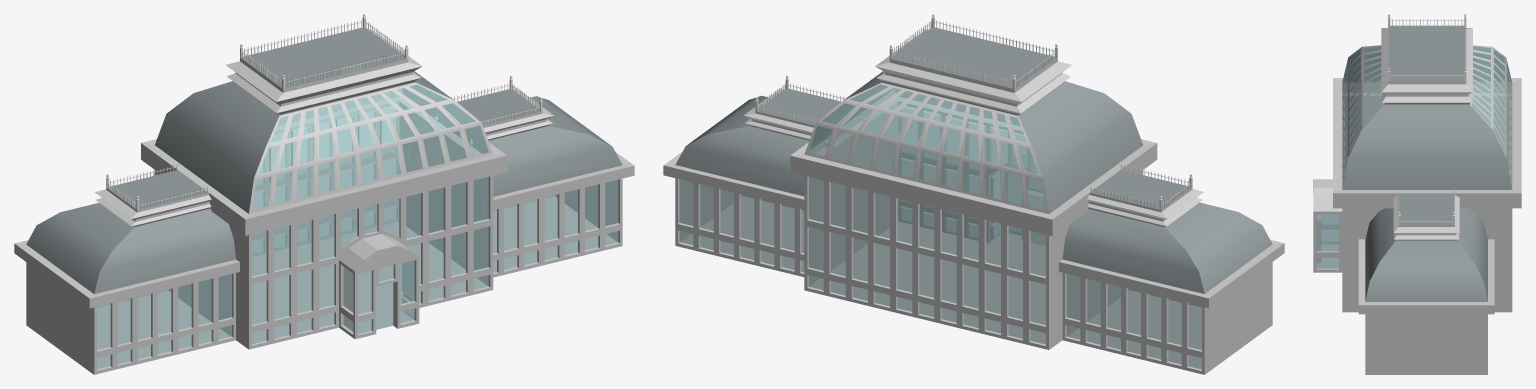
The model's file is Greenhouse.fbx.
3 views of the same model, side by side, from view 1: azimuth 30°, elevation 25°; view 2: azimuth 150°, elevation 25°; view 3: azimuth 270°, elevation 25° (orthographic). The views are drawn at different scales.
Visible parts, largest first — view 1: Greenhouse; view 2: Greenhouse; view 3: Greenhouse.
Part boxes in pixels (x1,y1,x2,y2): Greenhouse: (14, 14, 634, 374); Greenhouse: (663, 14, 1284, 374); Greenhouse: (1313, 14, 1521, 374).
Bounding box in the file's own units: 25.17 × 10.63 × 9.23.
